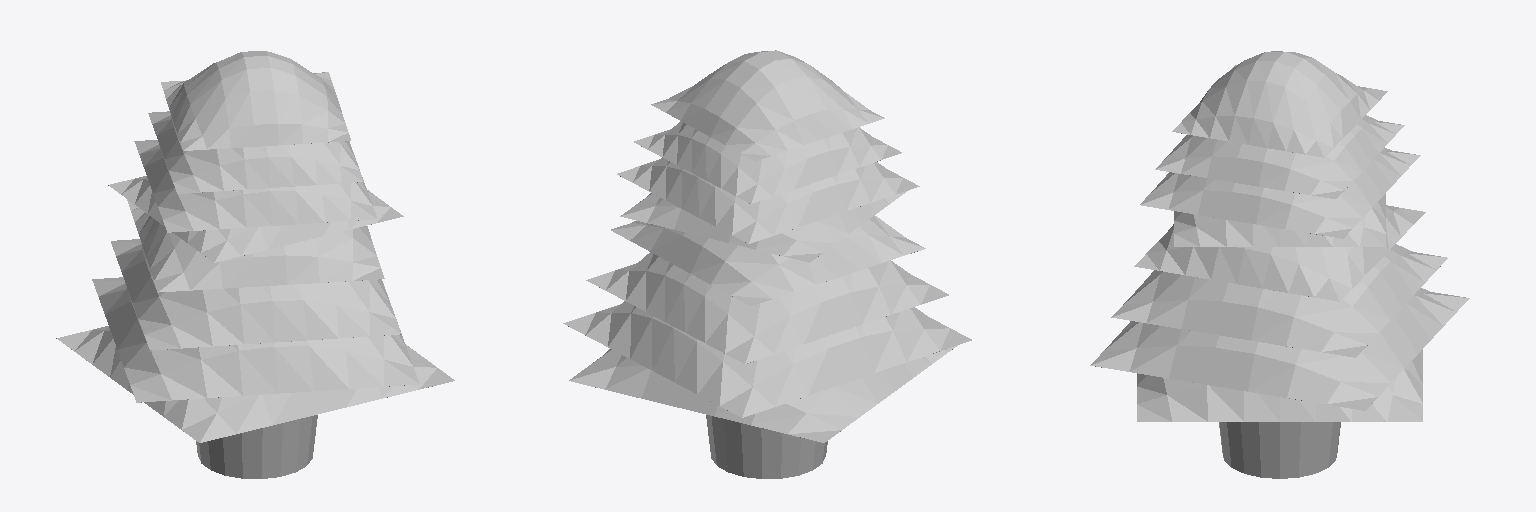
File: plants.obj
3 renders of one model, left to right at view 1: azimuth 30°, elevation 25°; view 2: azimuth 150°, elevation 25°; view 3: azimuth 270°, elevation 25°, orthographic.
Visible parts, largest first — view 1: plants; view 2: plants; view 3: plants.
Part boxes in pixels (left/top/right/bottom): plants: left=56, top=51, right=454, bottom=478; plants: left=563, top=50, right=971, bottom=478; plants: left=1090, top=51, right=1469, bottom=478.
Bounding box in the file's own units: 78.95 × 92.87 × 80.03.